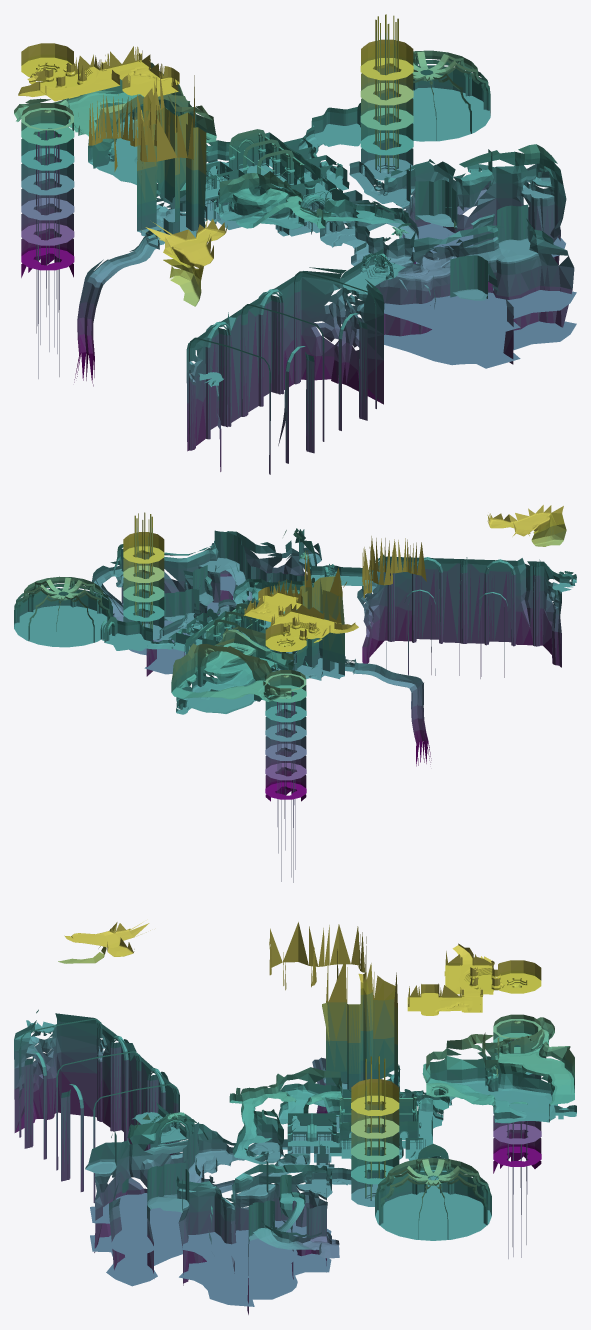
Rendered from 740_SZ_Prison.glb.
The picture shows the model from 3 angles, top to bottom: view 1: azimuth 30°, elevation 25°; view 2: azimuth 150°, elevation 25°; view 3: azimuth 270°, elevation 25°; orthographic projection. The views are drawn at different scales.
Visible parts, largest first — view 1: walls, floors, water; view 2: walls, floors, water; view 3: walls, floors, water.
Part boxes in pixels (x1,y1,x2,y2): walls: (14, 14, 574, 474); floors: (14, 51, 561, 419); water: (384, 223, 576, 368); walls: (14, 505, 576, 882); floors: (14, 512, 576, 799); water: (122, 576, 235, 674); walls: (14, 922, 576, 1314); floors: (14, 922, 576, 1264); water: (90, 1193, 331, 1306).
Bounding box in the file's own units: 217 × 149 × 232.
